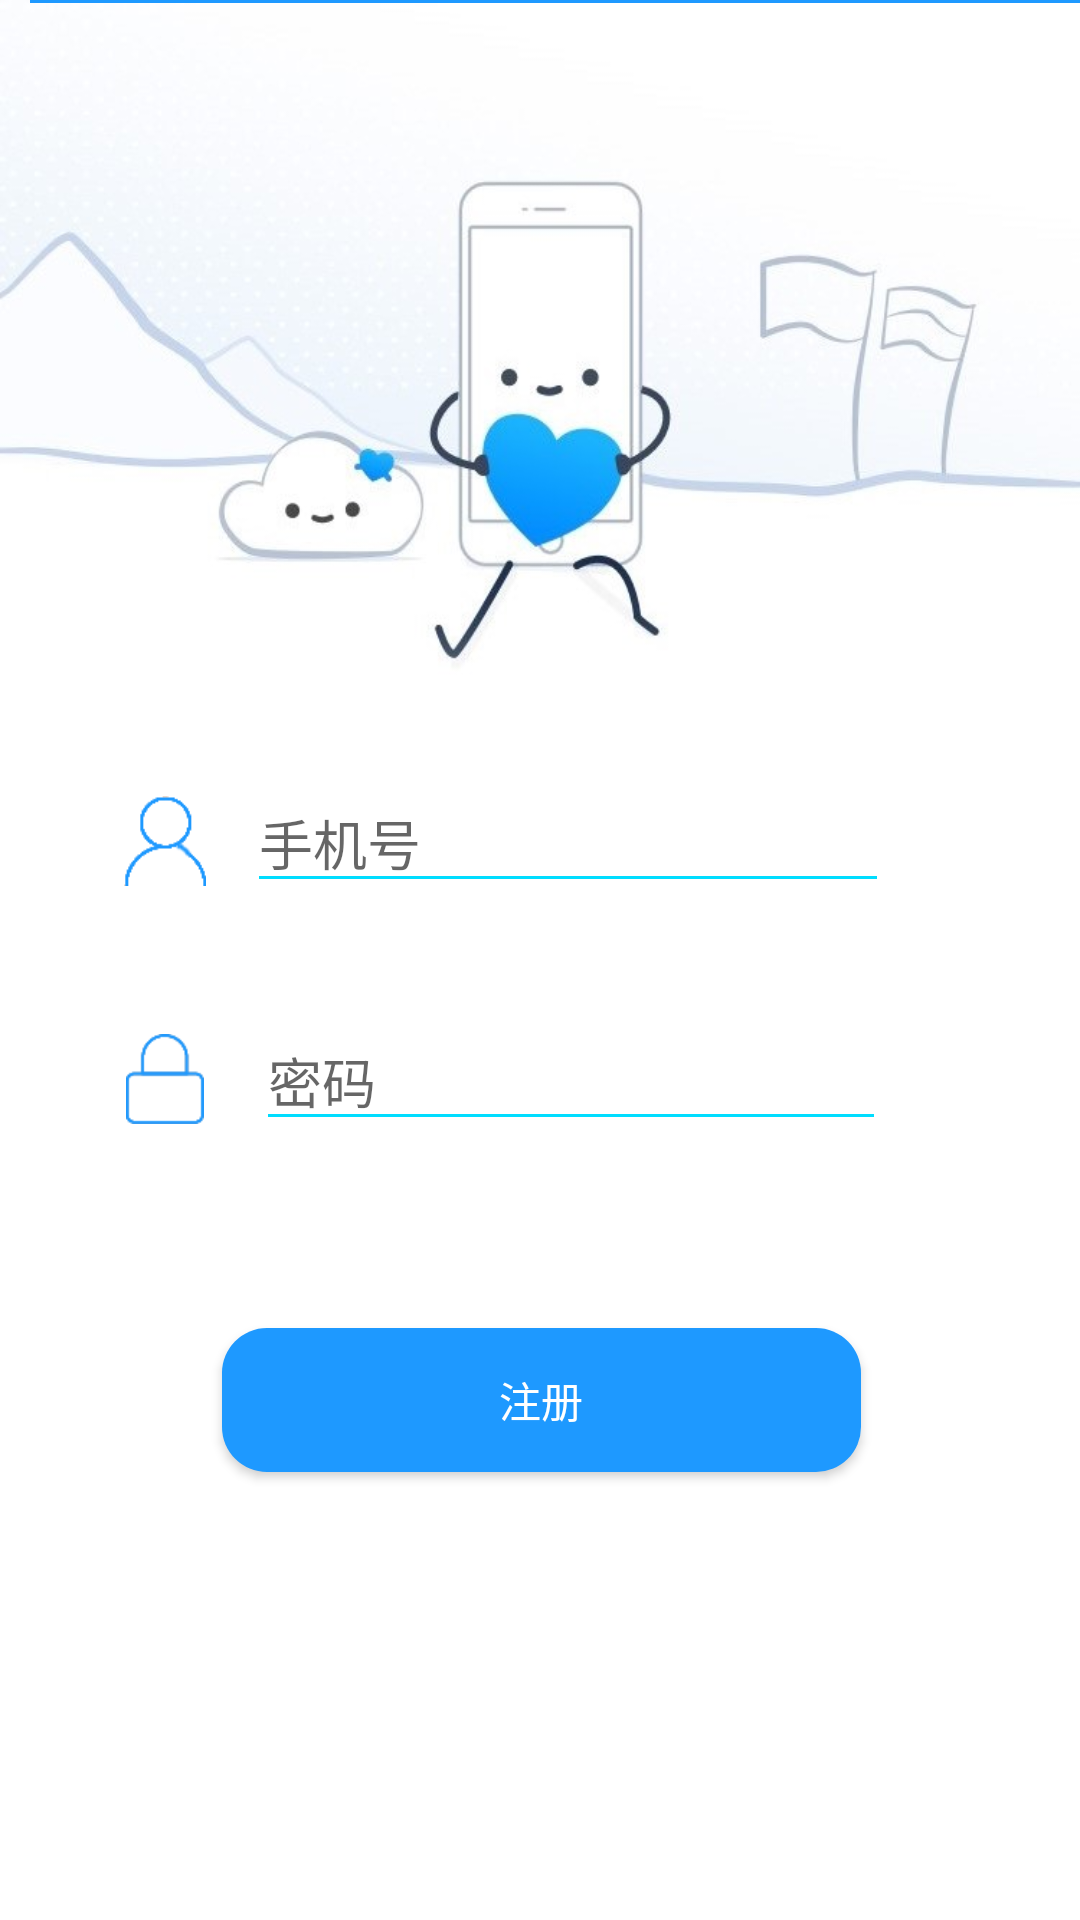

Named icons in this screenshot (1080×1920) and their bounding boxes, (x1, y1, x2, y2):
login account: (124, 796, 206, 886)
login pw: (126, 1034, 204, 1124)
